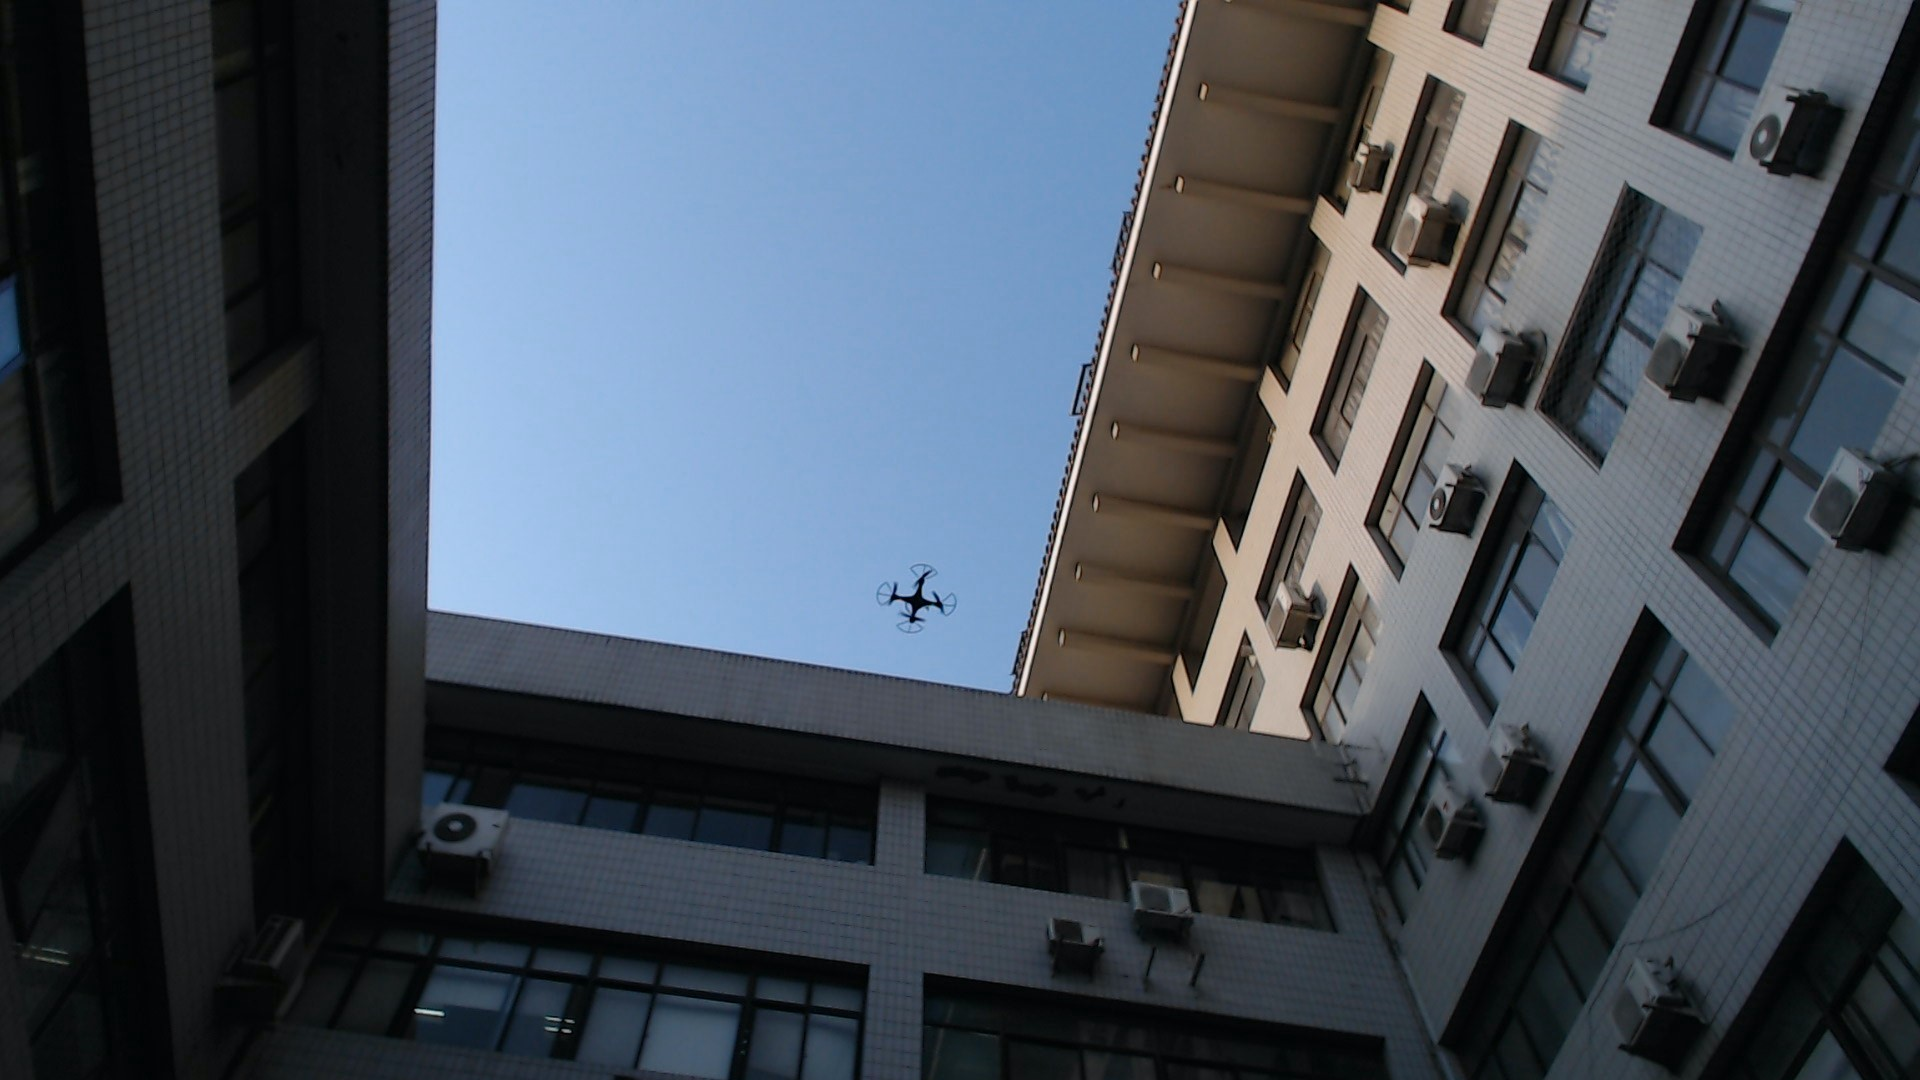drone: (856, 541, 975, 651)
